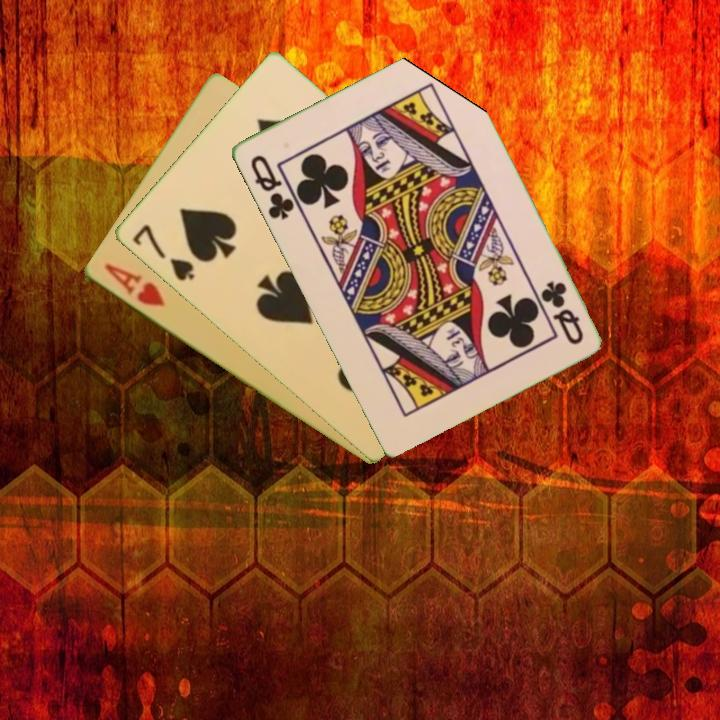7s: (128, 220, 198, 284)
Ah: (100, 260, 167, 310)
Qc: (246, 151, 297, 223), (536, 277, 586, 348)
